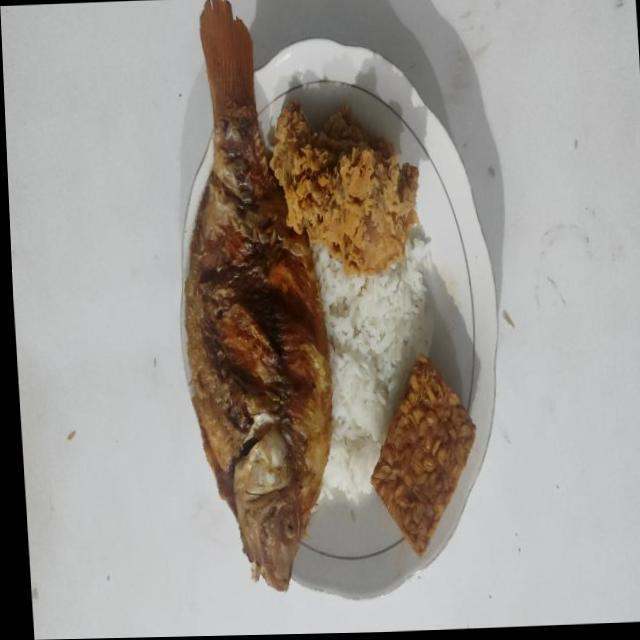ikan_mujair: (185, 0, 332, 590)
nasi_putih: (312, 224, 434, 504)
tempe_goreng: (370, 354, 476, 556)
